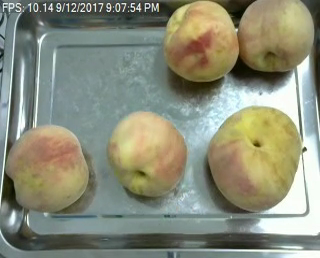Peach: (207, 106, 302, 209), (7, 123, 91, 215), (108, 111, 187, 196), (161, 0, 240, 82), (237, 0, 314, 73)
